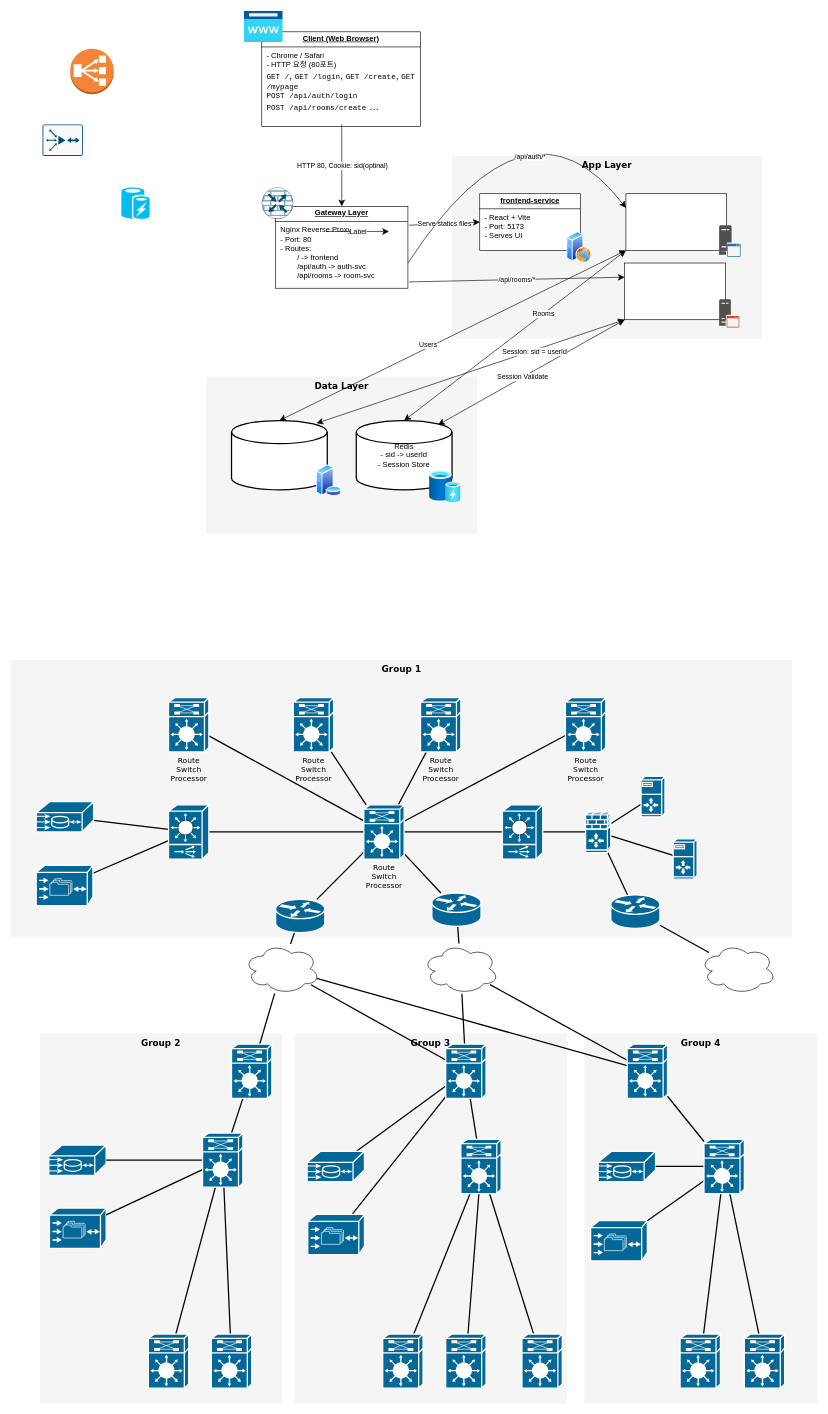
The diagram is 828 pixels wide and 1414 high, and some of its shapes have lost their labels. Here are the shapes that lost their labels. From the top down, the centre of each, then its label:
the point at 676,221: auth-service - Express (8080) - Session: Redis - Signup / Login
the point at 674,291: room-service - Express (8081) - Session: Redis - Room CRUD - Join / Leave
the point at 279,455: MongoDB - User, Rooms - 27017
the point at 281,968: LAN
the point at 460,968: Cloud
the point at 738,968: Internet
